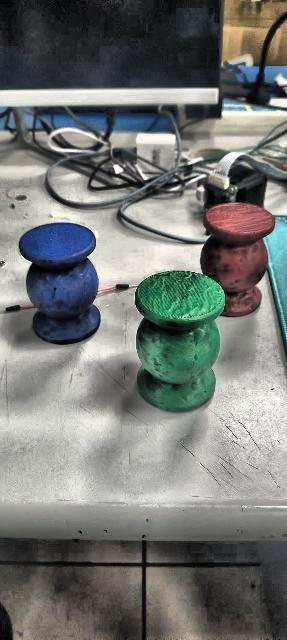blue: (19, 222, 101, 344)
green: (134, 270, 226, 412)
red: (199, 198, 277, 318)
